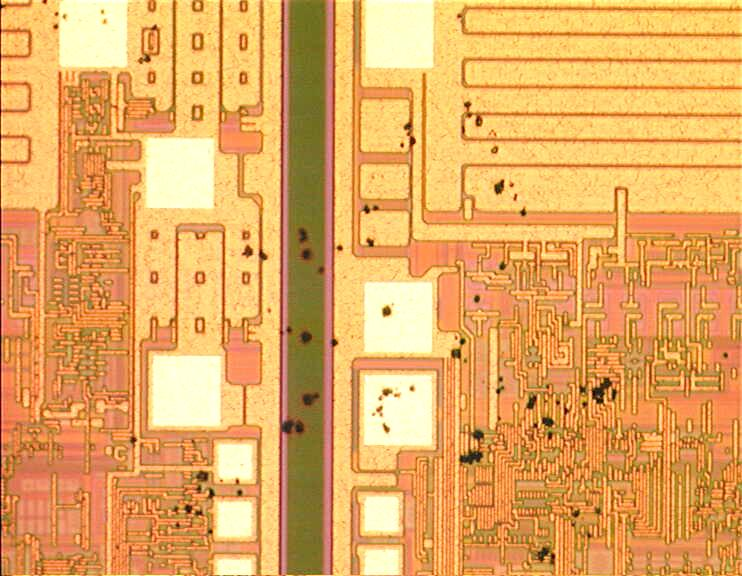PO CONTAMINATION: (126, 98, 735, 569)
